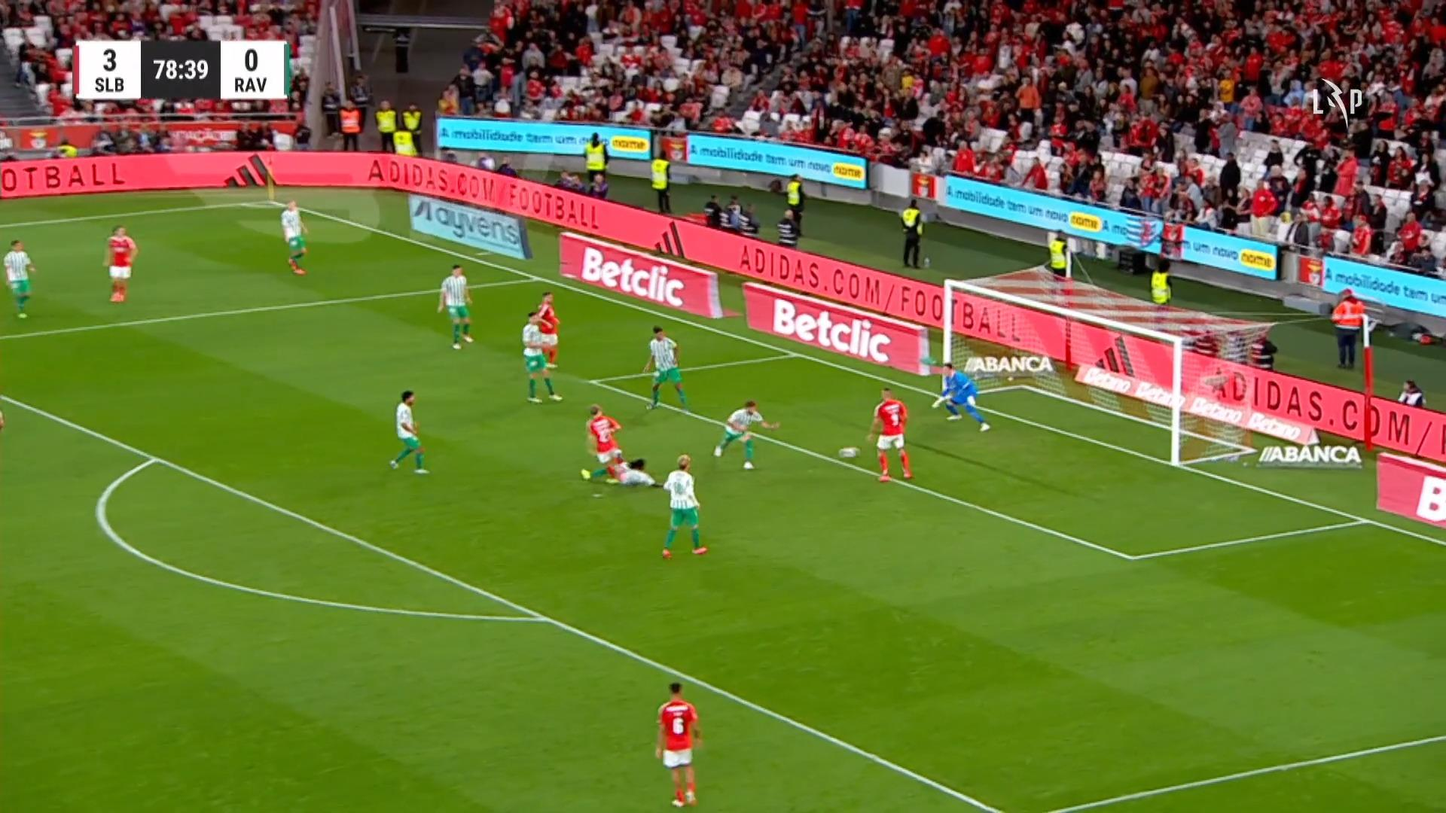ball: (838, 446, 859, 458)
goalkeeper: (931, 361, 990, 431)
player: (654, 681, 701, 806), (660, 453, 708, 559), (712, 399, 779, 470), (866, 386, 914, 482), (641, 324, 688, 410), (520, 310, 563, 403), (581, 403, 625, 483), (388, 389, 429, 474), (437, 263, 474, 349), (103, 224, 137, 303), (2, 239, 36, 318), (279, 199, 308, 276), (534, 290, 560, 369), (605, 450, 657, 487)
